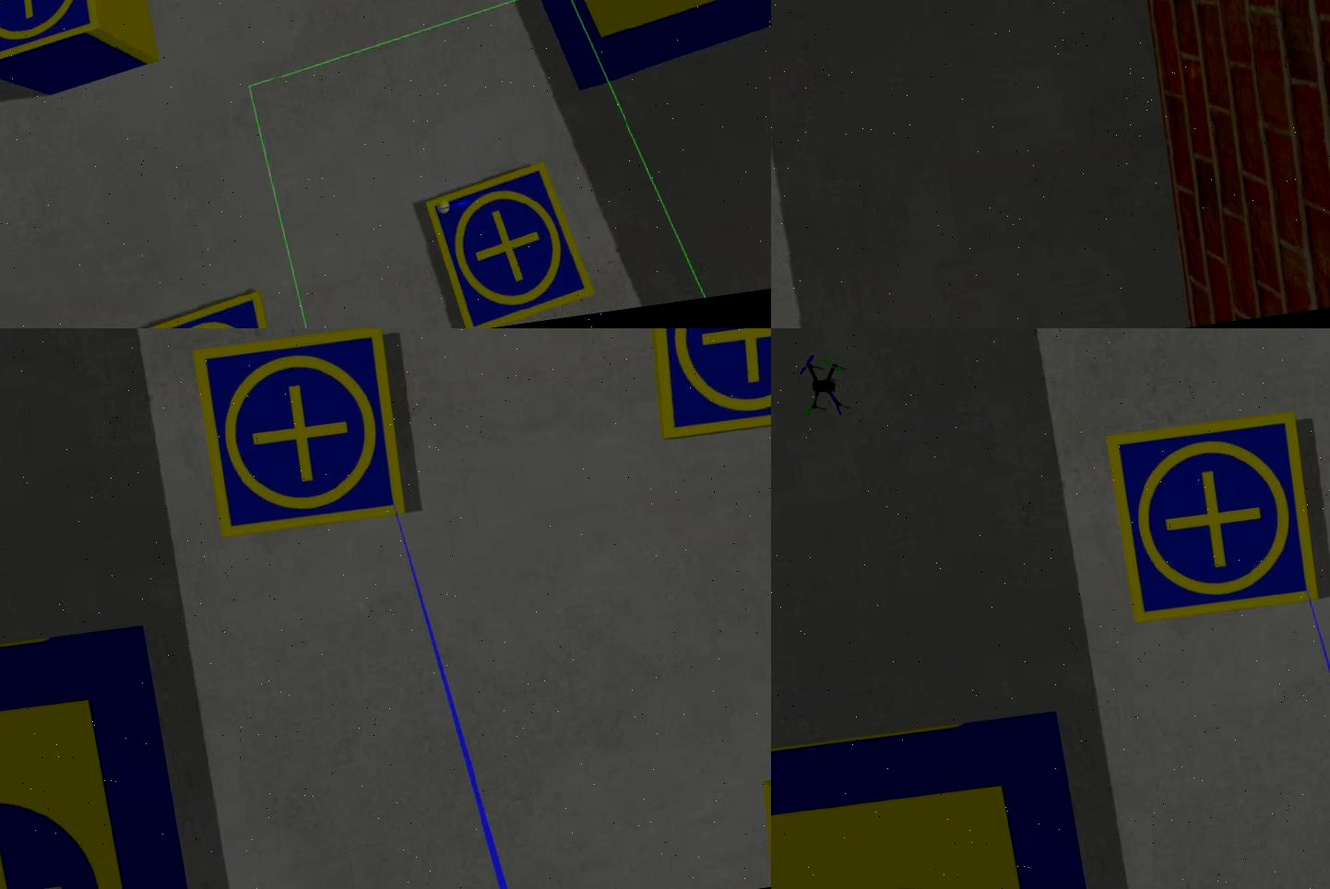large_base: (771, 709, 1111, 889), (1, 623, 197, 889), (453, 1, 771, 97)
small_base: (1105, 404, 1328, 634), (190, 328, 413, 547), (422, 158, 600, 328), (633, 328, 771, 444), (1, 1, 109, 77), (128, 288, 279, 328)
